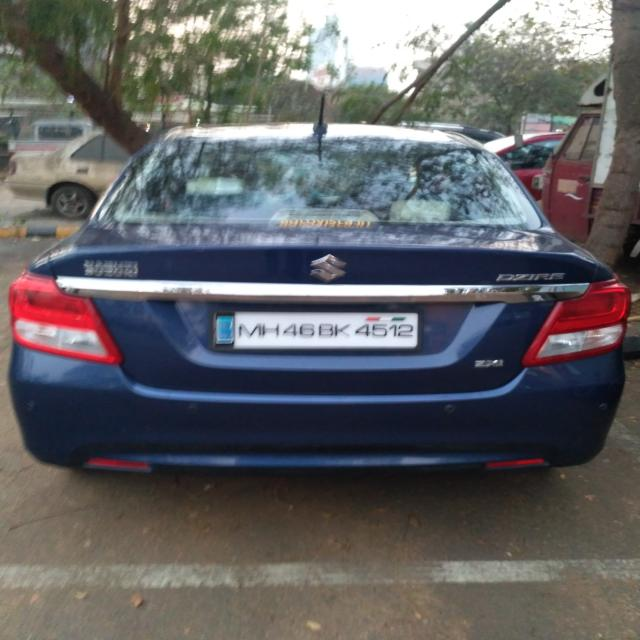Number-Plate: (219, 311, 422, 344)
